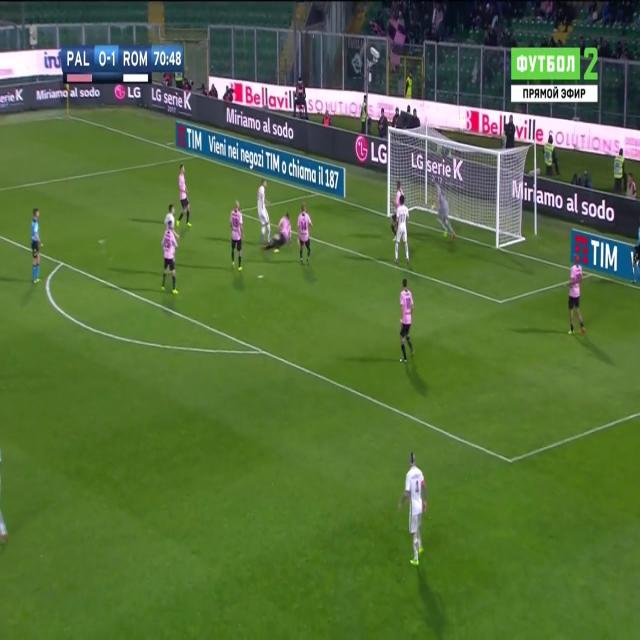Goalkeeper: (428, 176, 462, 243)
Player: (397, 448, 431, 572), (567, 252, 587, 344), (398, 276, 417, 370), (260, 208, 294, 257), (159, 222, 180, 298), (228, 198, 247, 276), (393, 193, 412, 268), (175, 162, 195, 231), (296, 202, 314, 270), (256, 177, 272, 246), (392, 178, 405, 235)
Referee: (29, 207, 45, 285)
